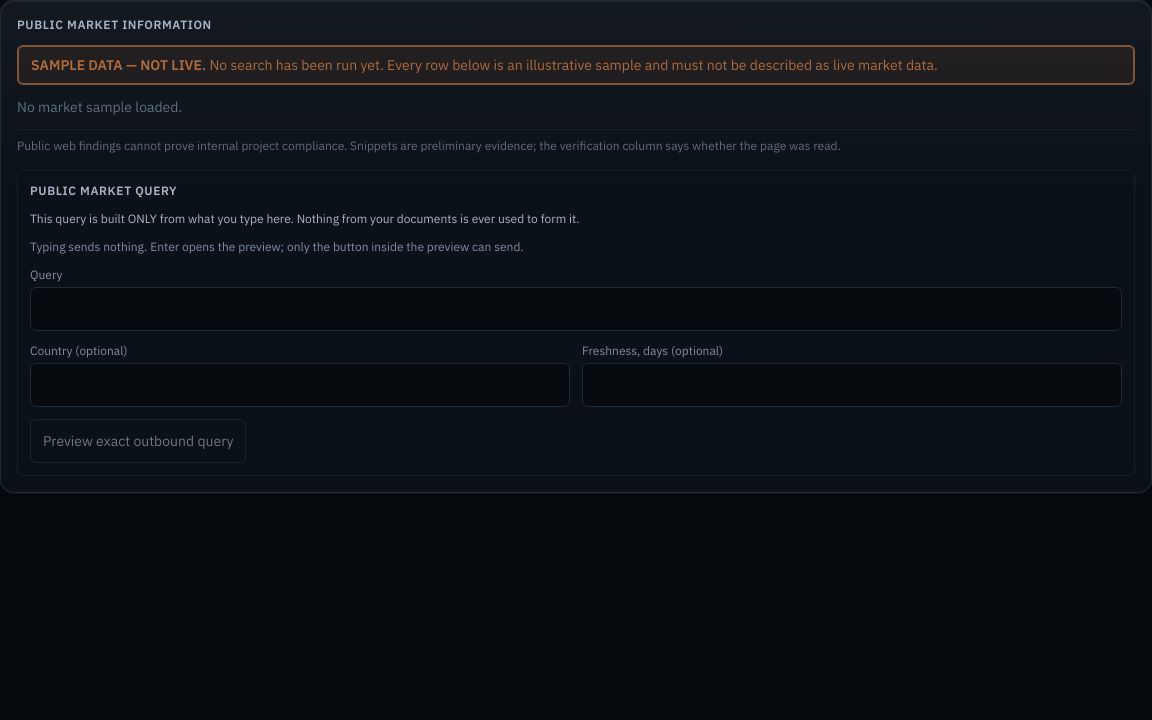
Test: MarketPanel: the exact payload is shown before anything is sent › sends nothing when the payload was never shown, and says nothing was sent
The width and height of the screenshot is (1152, 720).
Type "zinc epoxy primer price for the Statfjord tie-in" into the field labelled "Query".
click(576, 309); type("zinc epoxy primer price for the Statfjord tie-in")  # box [30,287,1122,331]
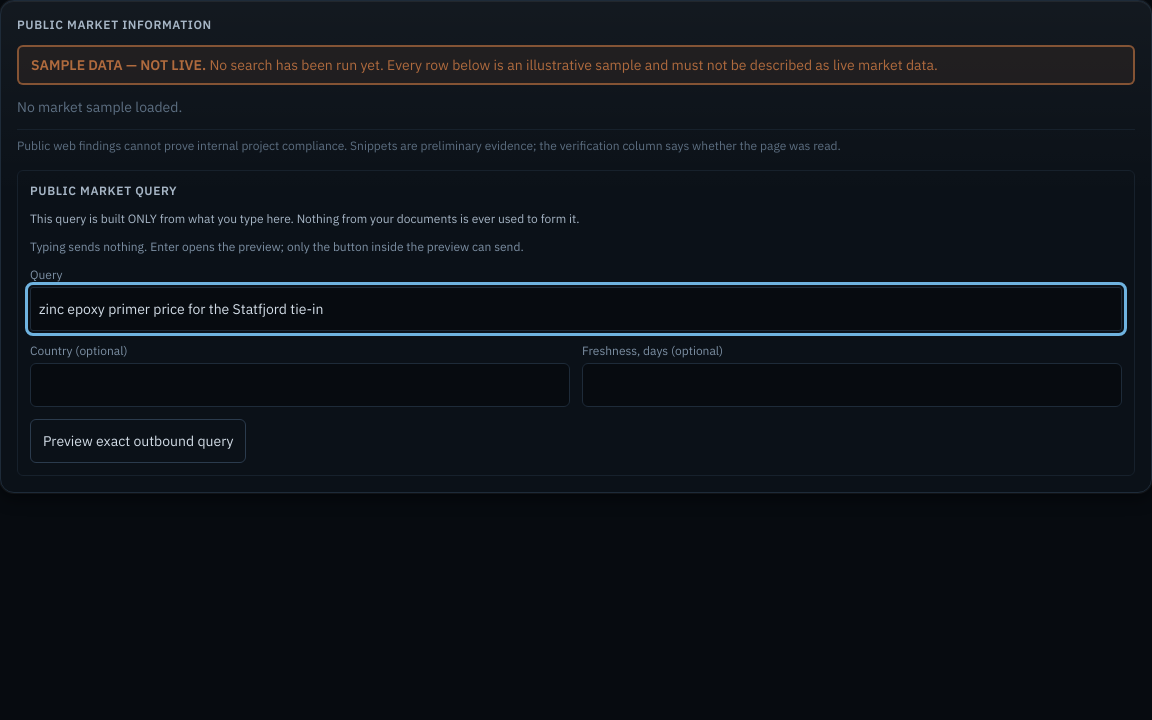
Click the button "Preview exact outbound query".
click(138, 441)  # box [30,419,246,463]
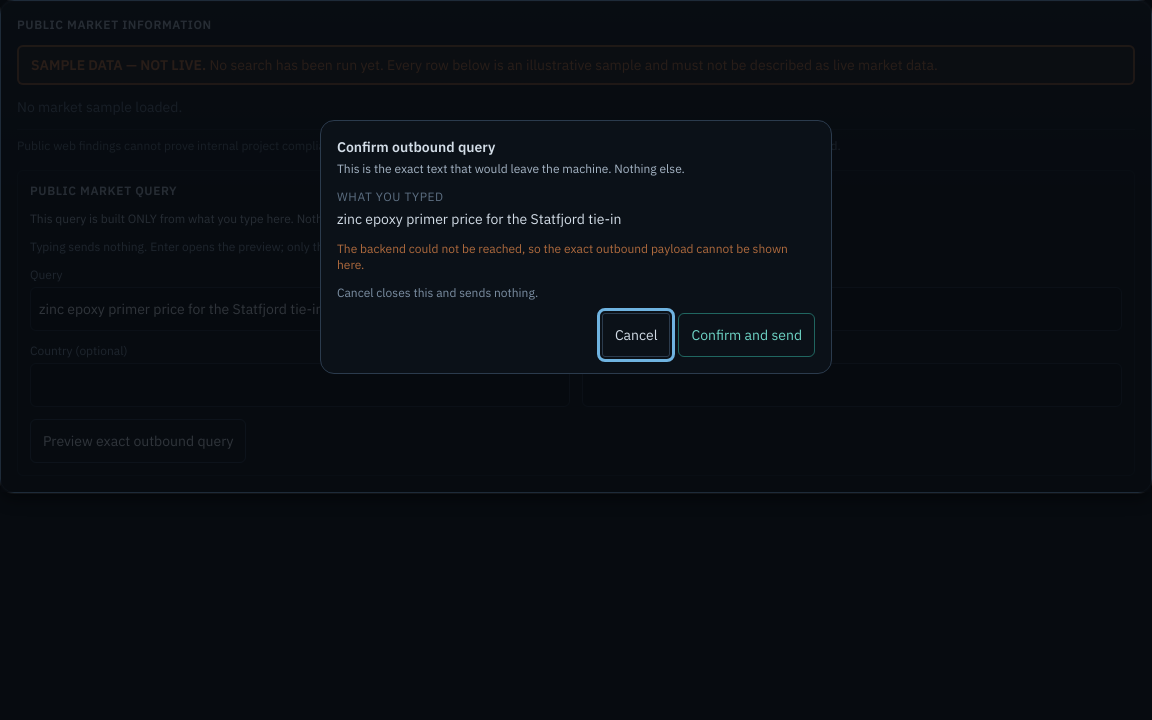
Expected: the text "The backend could not be reached, so the exact outbound payload cannot be shown here." is shown, [337,240,788,272]
Click the button "Confirm and send".
click(747, 334)  # box [678,312,815,356]
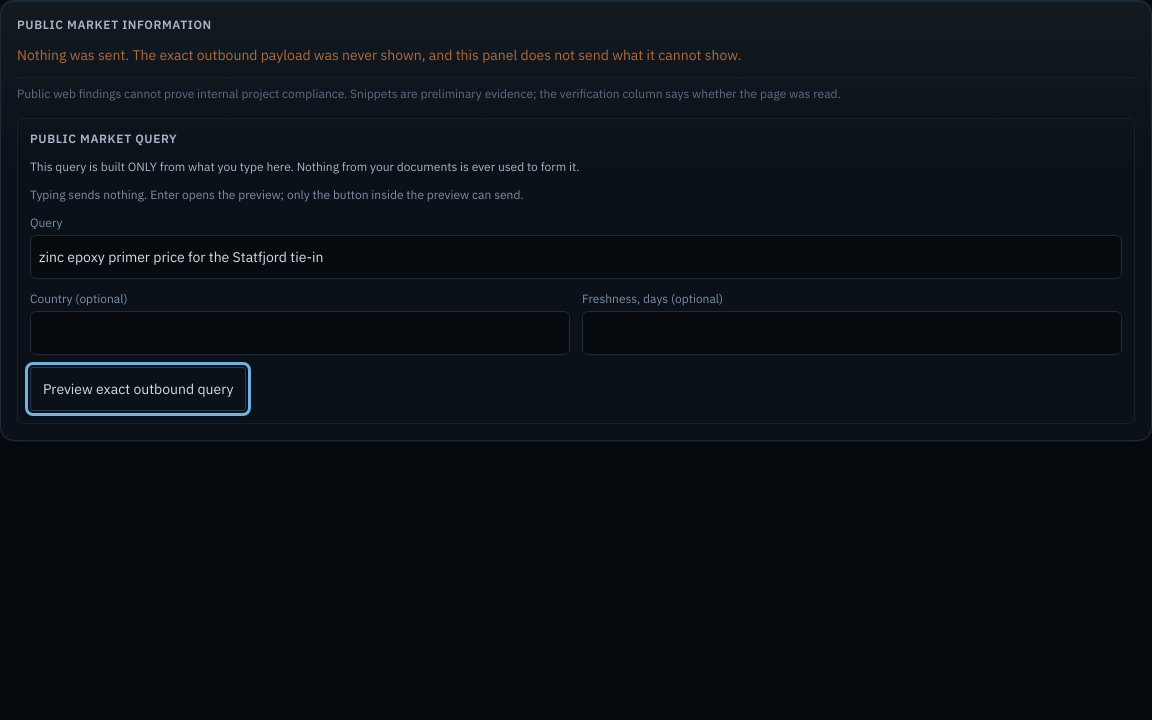
Expected: the dialog is gone
Expected: the text "Nothing was sent. The exact outbound payload was never shown, and this panel does not send what it cannot show." is shown, [17,46,742,64]
